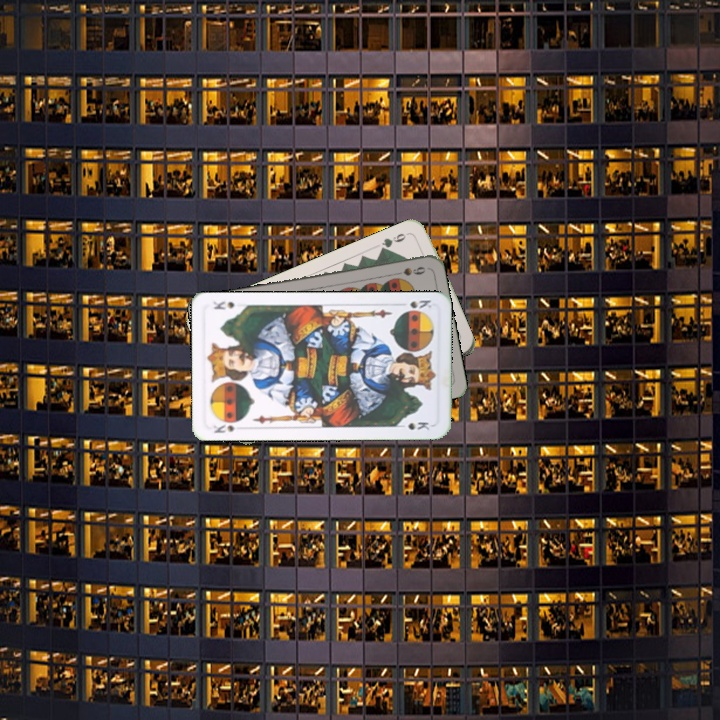G9: (376, 228, 413, 254)
S9: (388, 262, 428, 278)
SK: (210, 421, 247, 436), (406, 296, 434, 312)
